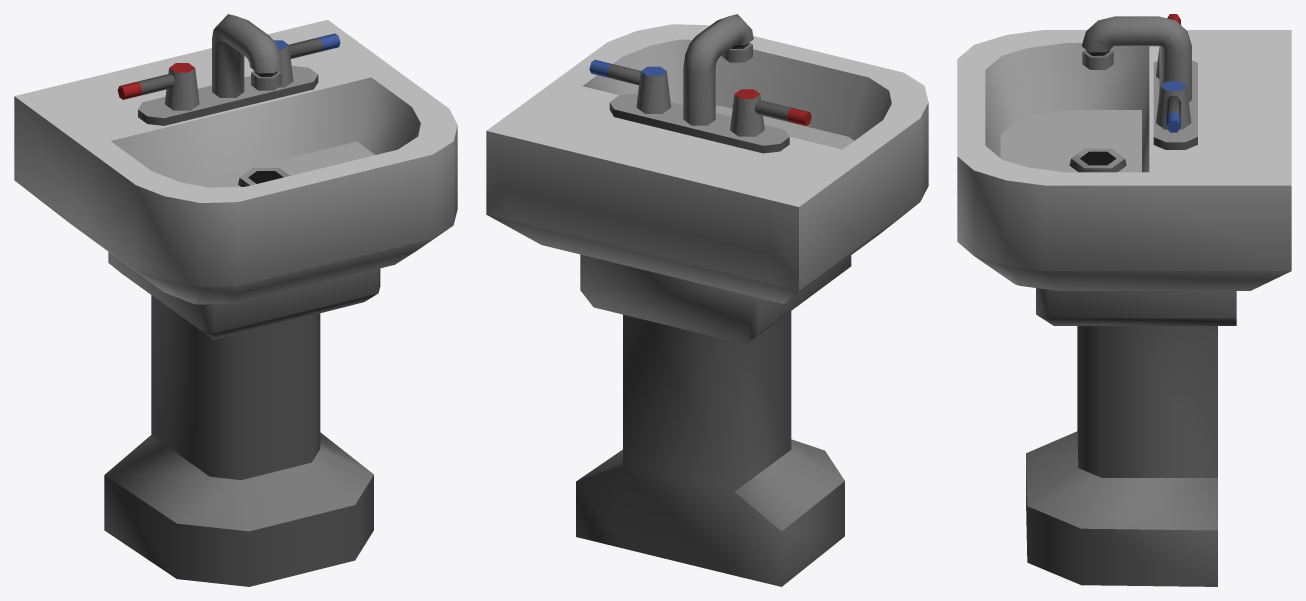
File: Sink.fbx
The picture shows the model from 3 angles, left to right: view 1: azimuth 30°, elevation 25°; view 2: azimuth 150°, elevation 25°; view 3: azimuth 270°, elevation 25°; orthographic projection. The views are drawn at different scales.
Visible parts, largest first — view 1: Sink; view 2: Sink; view 3: Sink.
Boxes of the visible parts, bbox=[...] form: Sink: bbox=[14, 14, 457, 586]; Sink: bbox=[486, 14, 928, 586]; Sink: bbox=[957, 14, 1291, 586].
Size of the model in its own units: 0.7247 by 1.13 by 0.6584.
